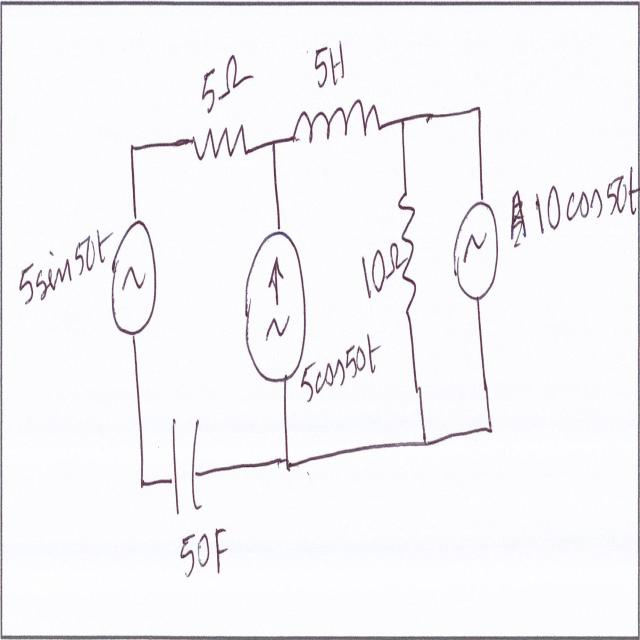ac_current: (236, 226, 306, 386), (107, 216, 164, 344), (451, 185, 499, 305)
capacitor: (168, 398, 206, 527)
inductor: (288, 94, 386, 150)
resistor: (190, 119, 250, 168), (397, 179, 419, 311)
